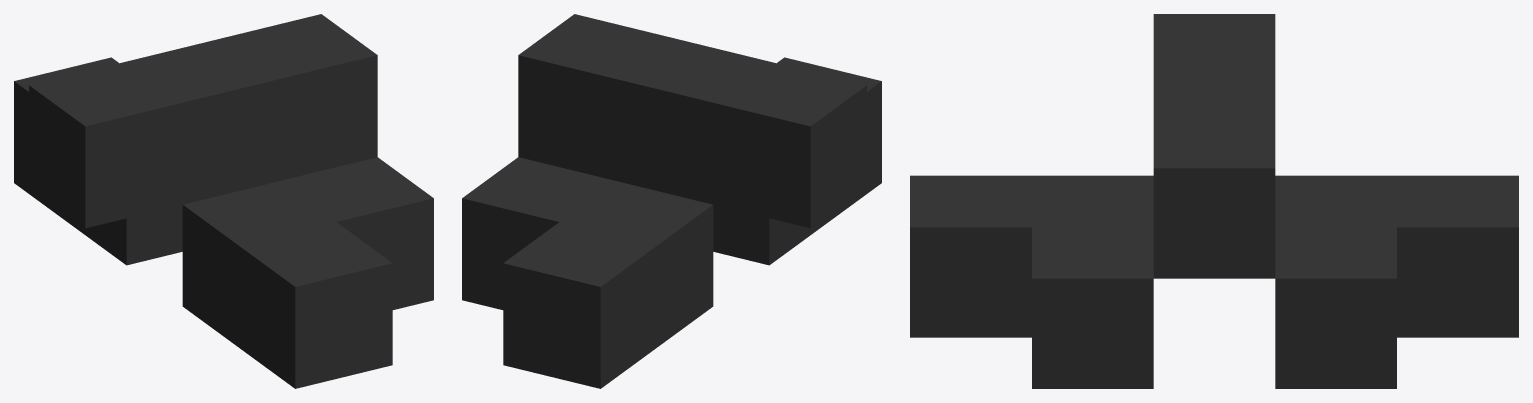
Rendered from bat-3-walk.obj.
3 renders of one model, left to right at view 1: azimuth 30°, elevation 25°; view 2: azimuth 150°, elevation 25°; view 3: azimuth 270°, elevation 25°, orthographic. The views are drawn at different scales.
Parts seen in each view (by area): view 1: walk; view 2: walk; view 3: walk.
Boxes of the visible parts, x1,y1,x2,y2 form: walk: [14, 14, 433, 388]; walk: [462, 14, 881, 388]; walk: [910, 14, 1518, 388].
Size of the model in its own units: 0.3 by 0.2 by 0.5.
1 material, 1 textured.
